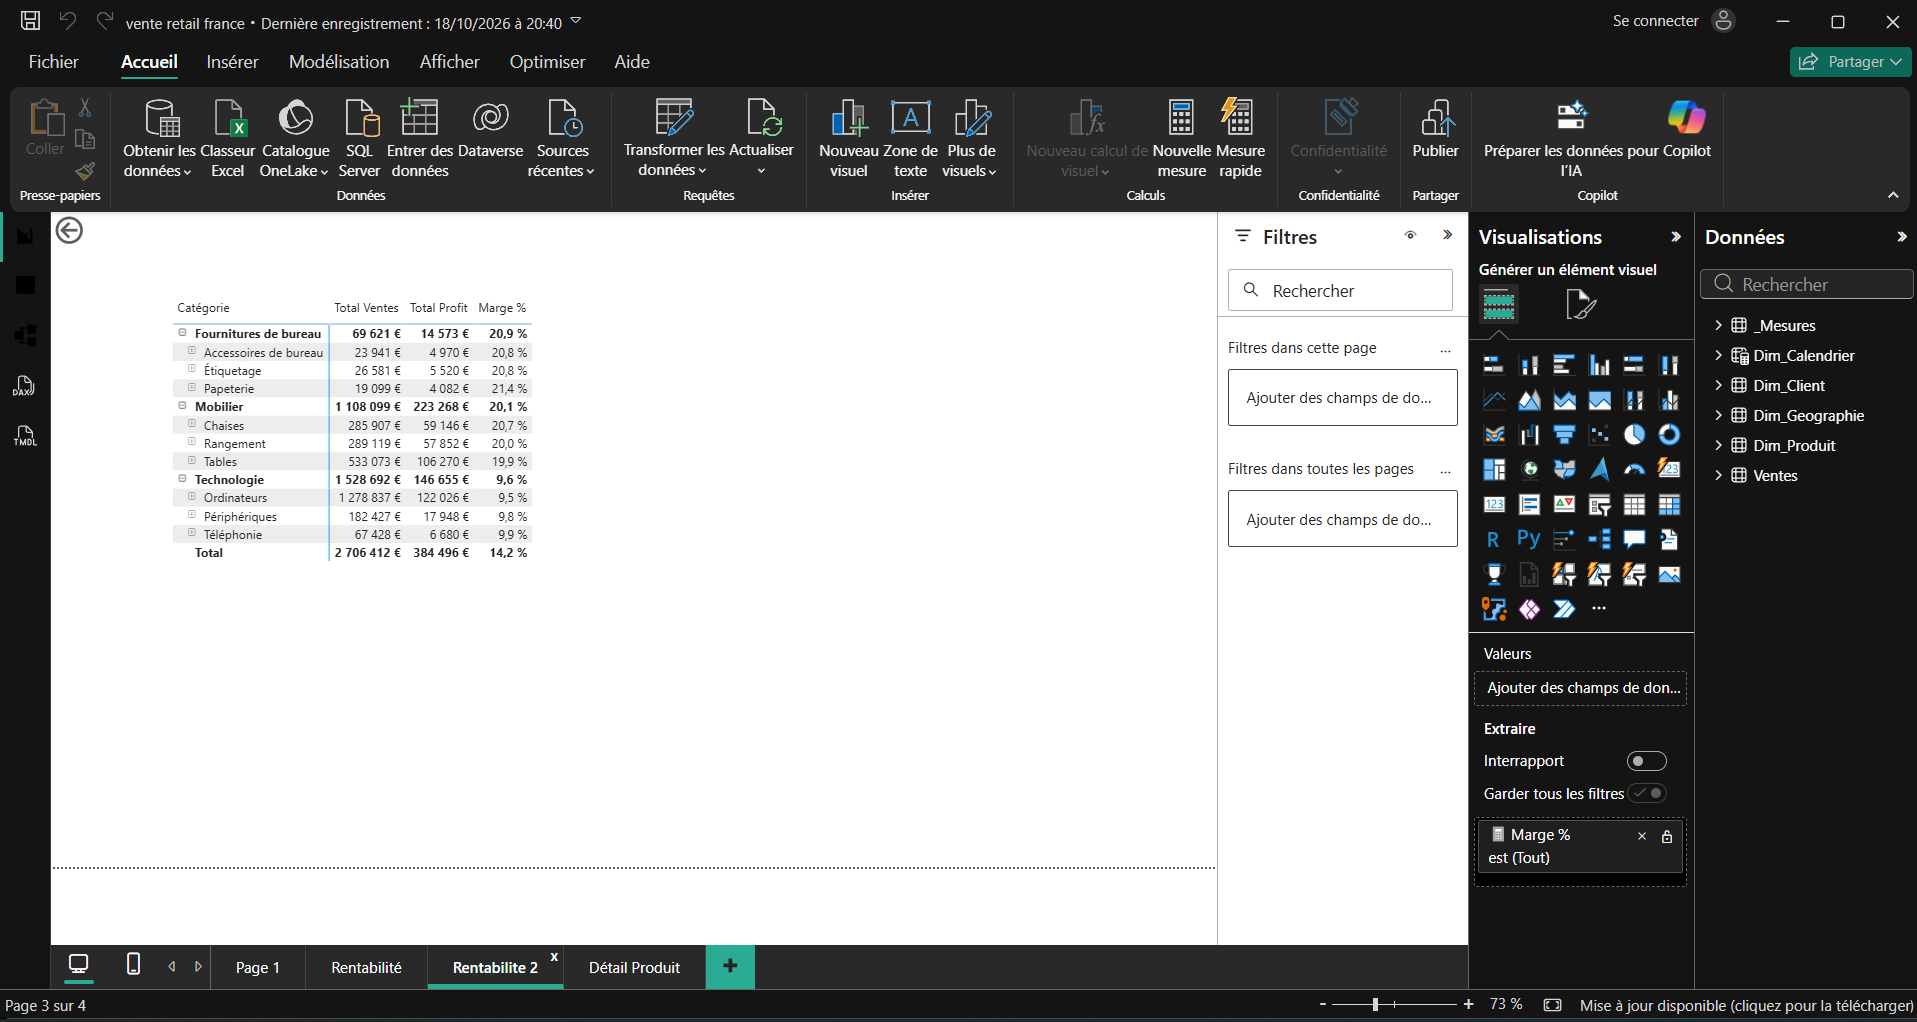

This screenshot's page, from the dashboard's own definition file:
{"tool":"powerbi","page":{"name":"Rentabilite 2","canvas":[1280,720],"ordinal":2},"visuals":[{"type":"pivotTable","fields":{"Rows":["Dim_Produit.Catégorie","Dim_Produit.Sous-Catégorie","Dim_Produit.Produit"],"Values":["_Mesures.Total Ventes","_Mesures.Total Profit","_Mesures.Marge %"]},"box":[129,89.2,429.5,351.3],"z":0},{"type":"actionButton","box":[0,0,100,40],"z":1000}]}

Visuals, with their boxes on the page's 1280x720 design canvas (x1, y1, x2, y2). These are canvas units, not pixel positions in the 1917x1022 screenshot, which may show the page scaled, cropped or inside an application window:
pivotTable - Dim_Produit.Catégorie x Dim_Produit.Sous-Catégorie: locate(129, 89, 558, 440)
actionButton: locate(0, 0, 100, 40)
